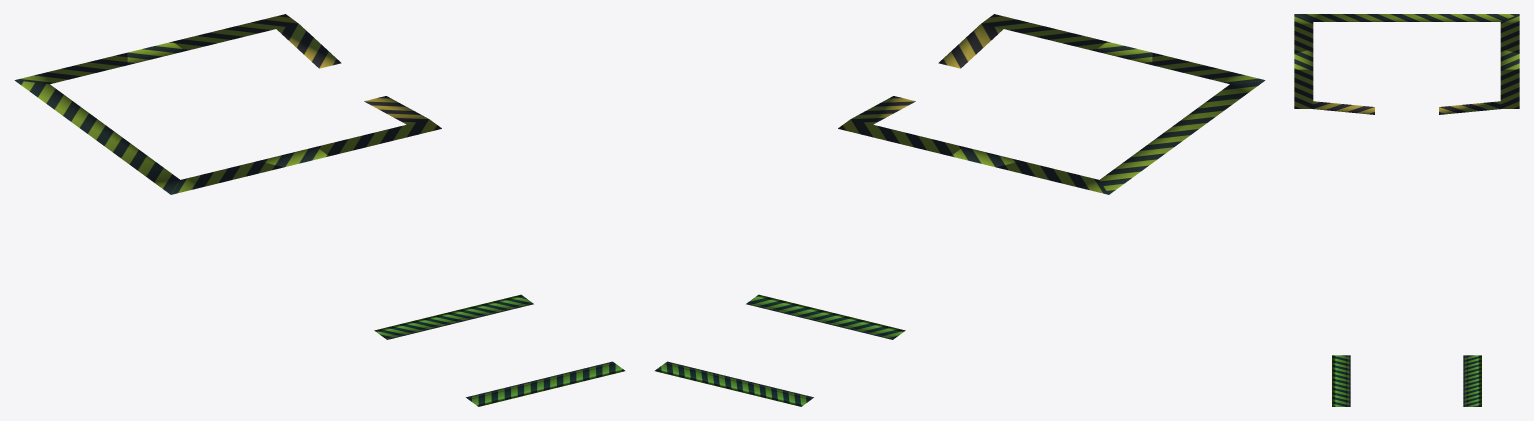
The model's file is PelagicIIExploration_Alpha_111.glb.
3 views of the same model, side by side, from view 1: azimuth 30°, elevation 25°; view 2: azimuth 150°, elevation 25°; view 3: azimuth 270°, elevation 25° (orthographic). The views are drawn at different scales.
Parts seen in each view (by area): view 1: PelagicIIExploration_Alpha_111; view 2: PelagicIIExploration_Alpha_111; view 3: PelagicIIExploration_Alpha_111.
Part boxes in pixels (x1,y1,x2,y2): PelagicIIExploration_Alpha_111: (14,14,624,406); PelagicIIExploration_Alpha_111: (655,14,1265,406); PelagicIIExploration_Alpha_111: (1294,14,1519,406).
Size of the model in its own units: 332 by 206 by 187.
Materials: 1 (1 with a texture image).
